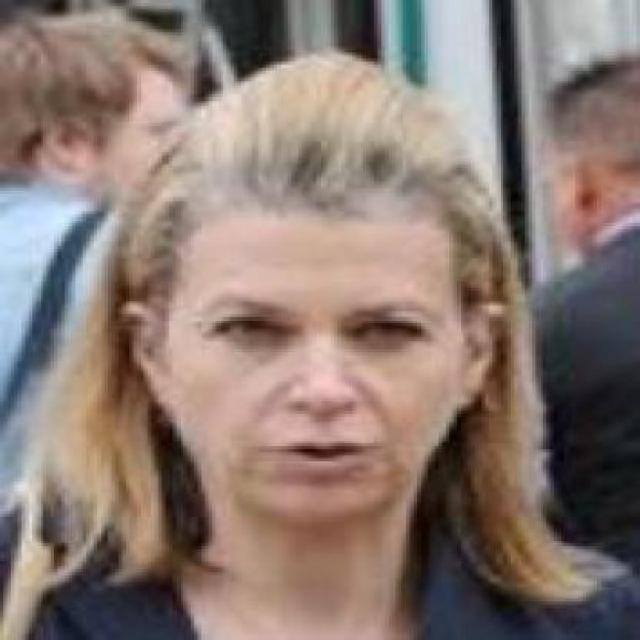closed-mouth: (260, 430, 386, 470)
